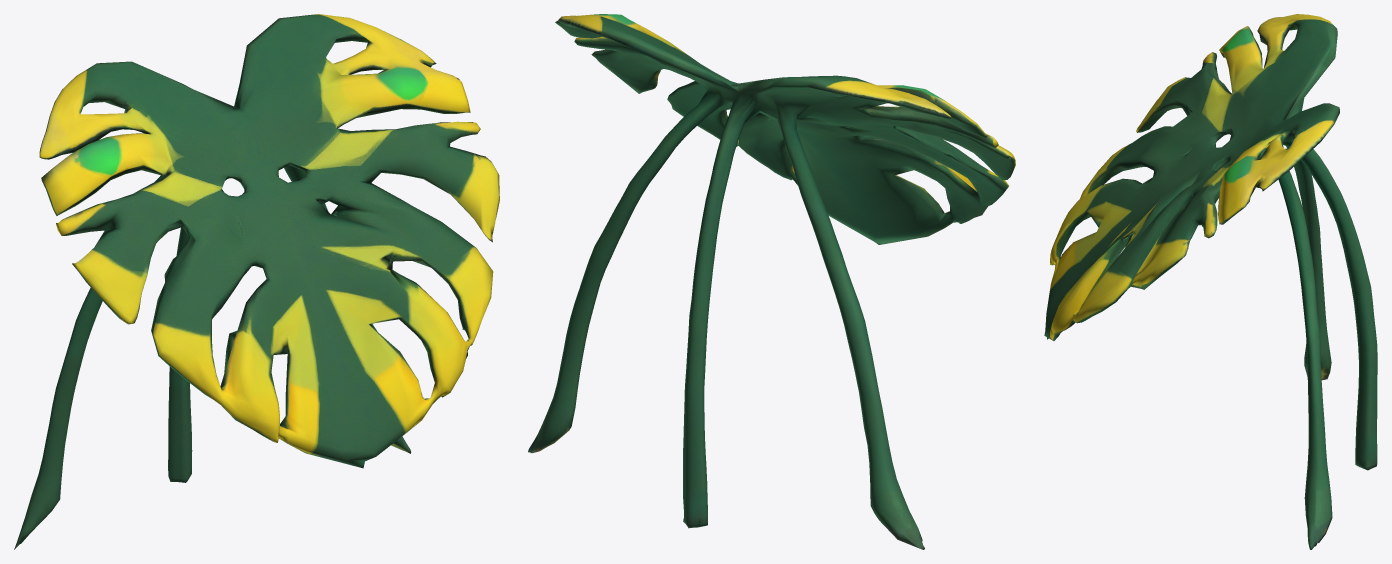
File: mon_lemonlime_precut.glb
3 views of the same model, side by side, from view 1: azimuth 30°, elevation 25°; view 2: azimuth 150°, elevation 25°; view 3: azimuth 270°, elevation 25° (orthographic). The views are drawn at different scales.
Size of the model in its own units: 1.94 by 2 by 1.52.
1 material, 1 textured.
